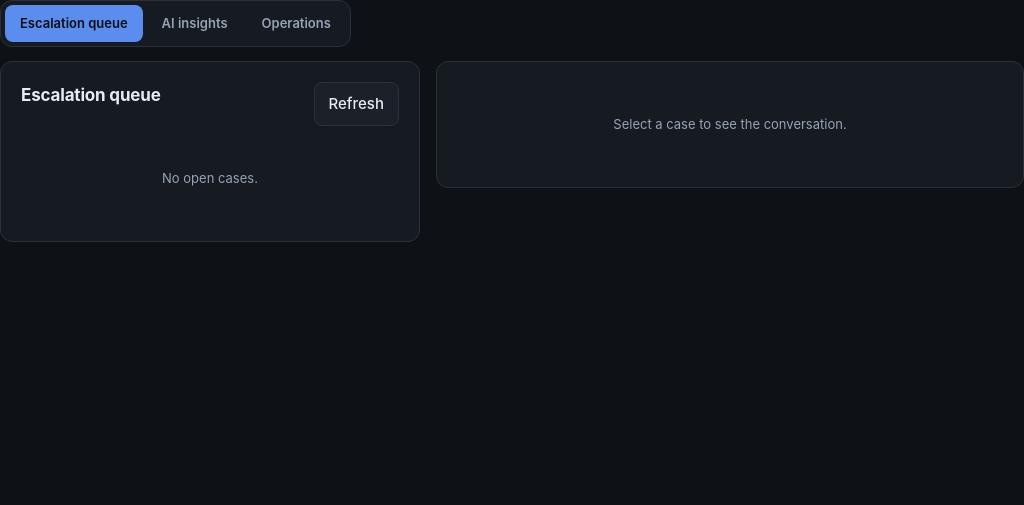
Scenario: Operations › shows per-instance counters against the five-second target
Click the tab "Operations" at (296, 23), box 246,5 -> 346,42
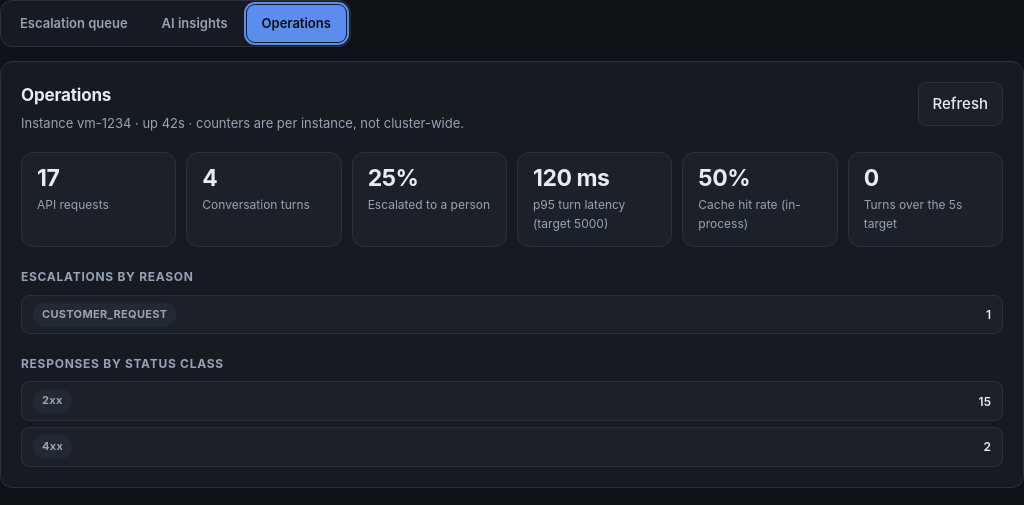
Result: the text "Instance vm-1234" is shown at 21,113 -> 464,134
Result: the text "25%" is shown at 368,164 -> 418,192
Result: the text "120 ms" is shown at 533,164 -> 610,192
